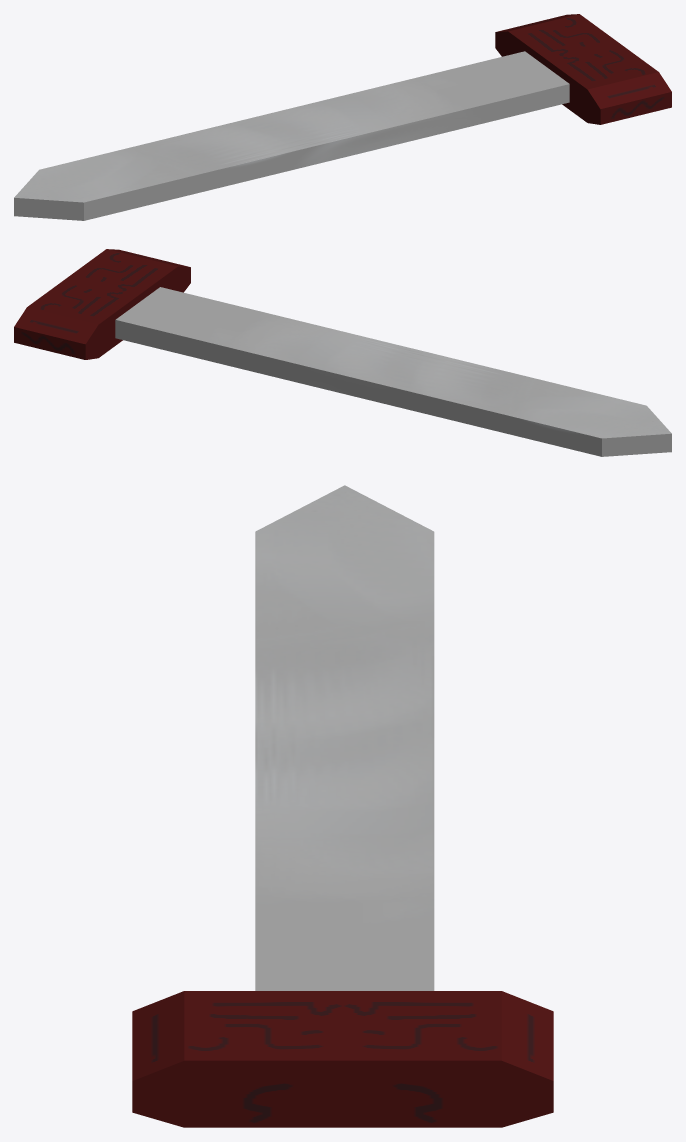
File: Sword.fbx
3 renders of one model, top to bottom at view 1: azimuth 30°, elevation 25°; view 2: azimuth 150°, elevation 25°; view 3: azimuth 270°, elevation 25°, orthographic. The views are drawn at different scales.
Visible parts, largest first — view 1: Espada; view 2: Espada; view 3: Espada.
Boxes of the visible parts, bbox=[...] form: Espada: bbox=[14, 14, 671, 220]; Espada: bbox=[14, 249, 671, 456]; Espada: bbox=[132, 485, 553, 1127].
Bounding box in the file's own units: 1139 × 60.34 × 343.
1 material, 1 textured.
